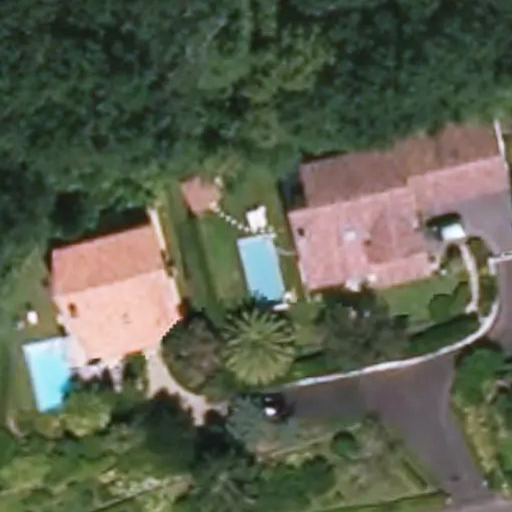pool: (237, 218, 274, 265)
